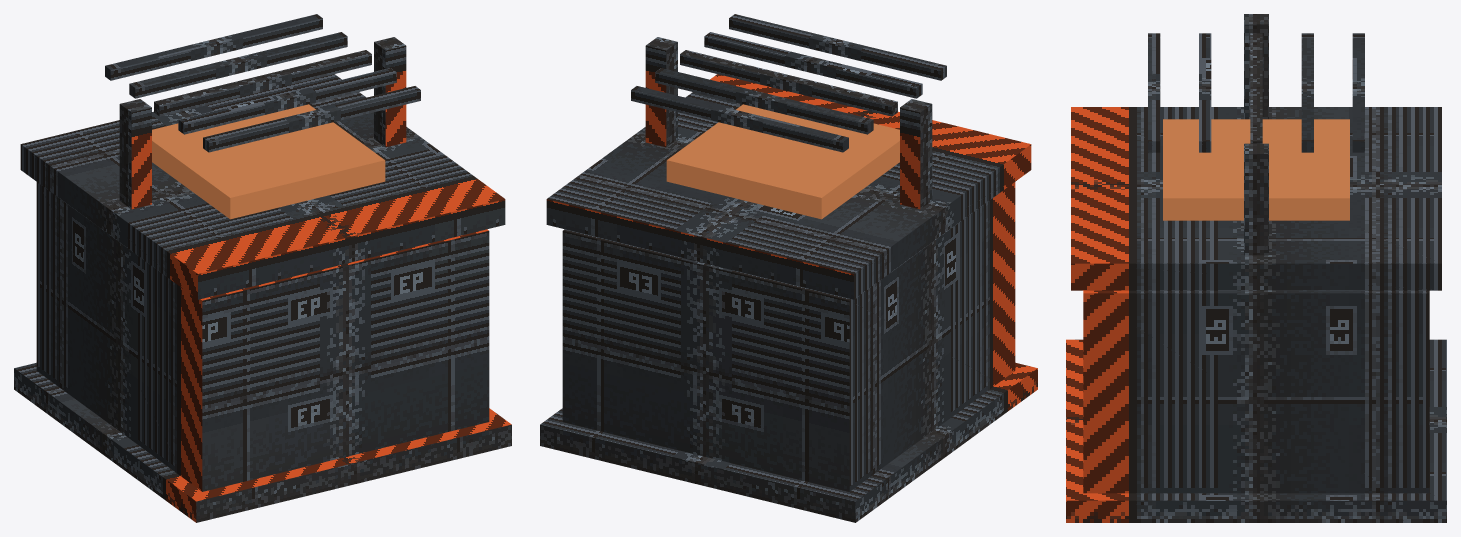
The model's file is lab_hazard.glb.
The picture shows the model from 3 angles, left to right: view 1: azimuth 30°, elevation 25°; view 2: azimuth 150°, elevation 25°; view 3: azimuth 270°, elevation 25°; orthographic projection. The views are drawn at different scales.
Parts seen in each view (by area): view 1: lab_hazard; view 2: lab_hazard; view 3: lab_hazard.
Part boxes in pixels (x1,y1,x2,y2): lab_hazard: (14, 14, 511, 522); lab_hazard: (540, 14, 1037, 522); lab_hazard: (1066, 14, 1446, 522).
Size of the model in its own units: 1.54 by 1.6 by 1.54.
Materials: 2 (1 with a texture image).
